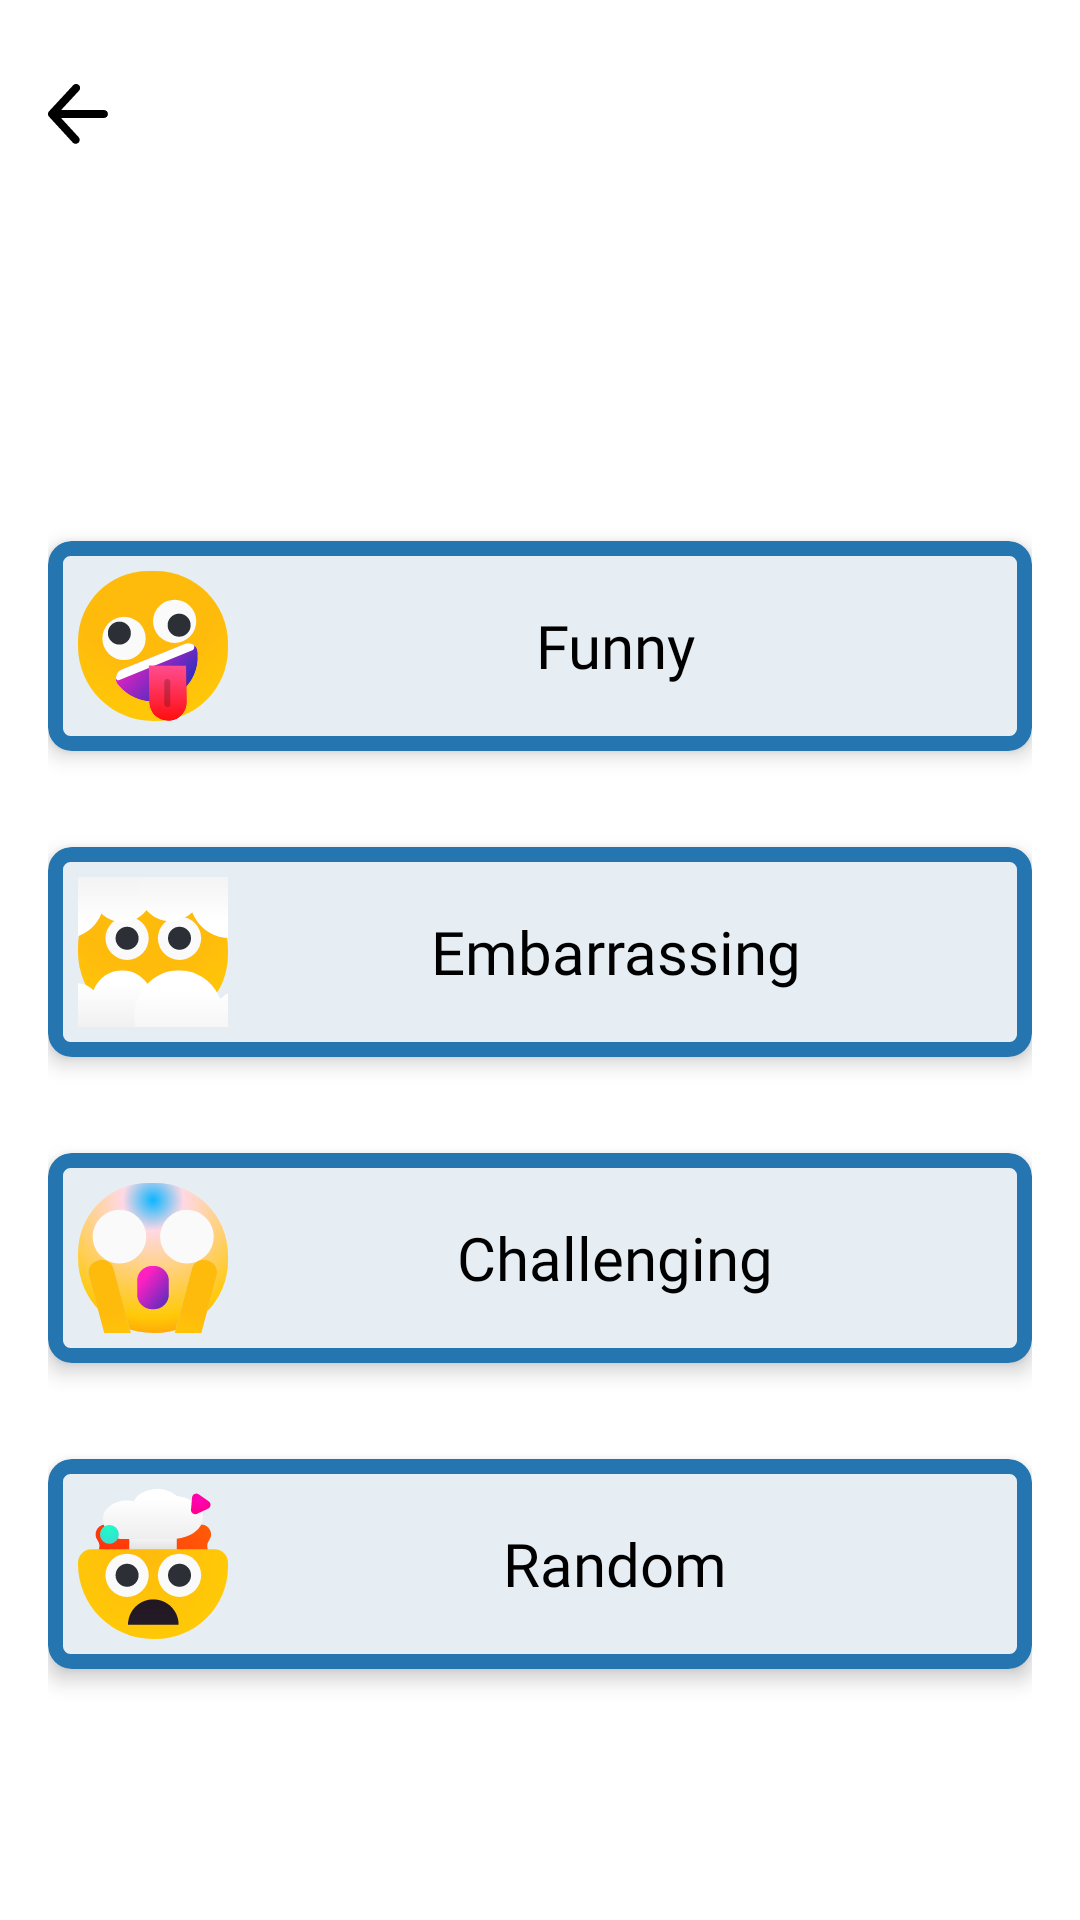

Where to tap for icons on this 1080x1920 app screen, as (x,y):
back: (78,114)
